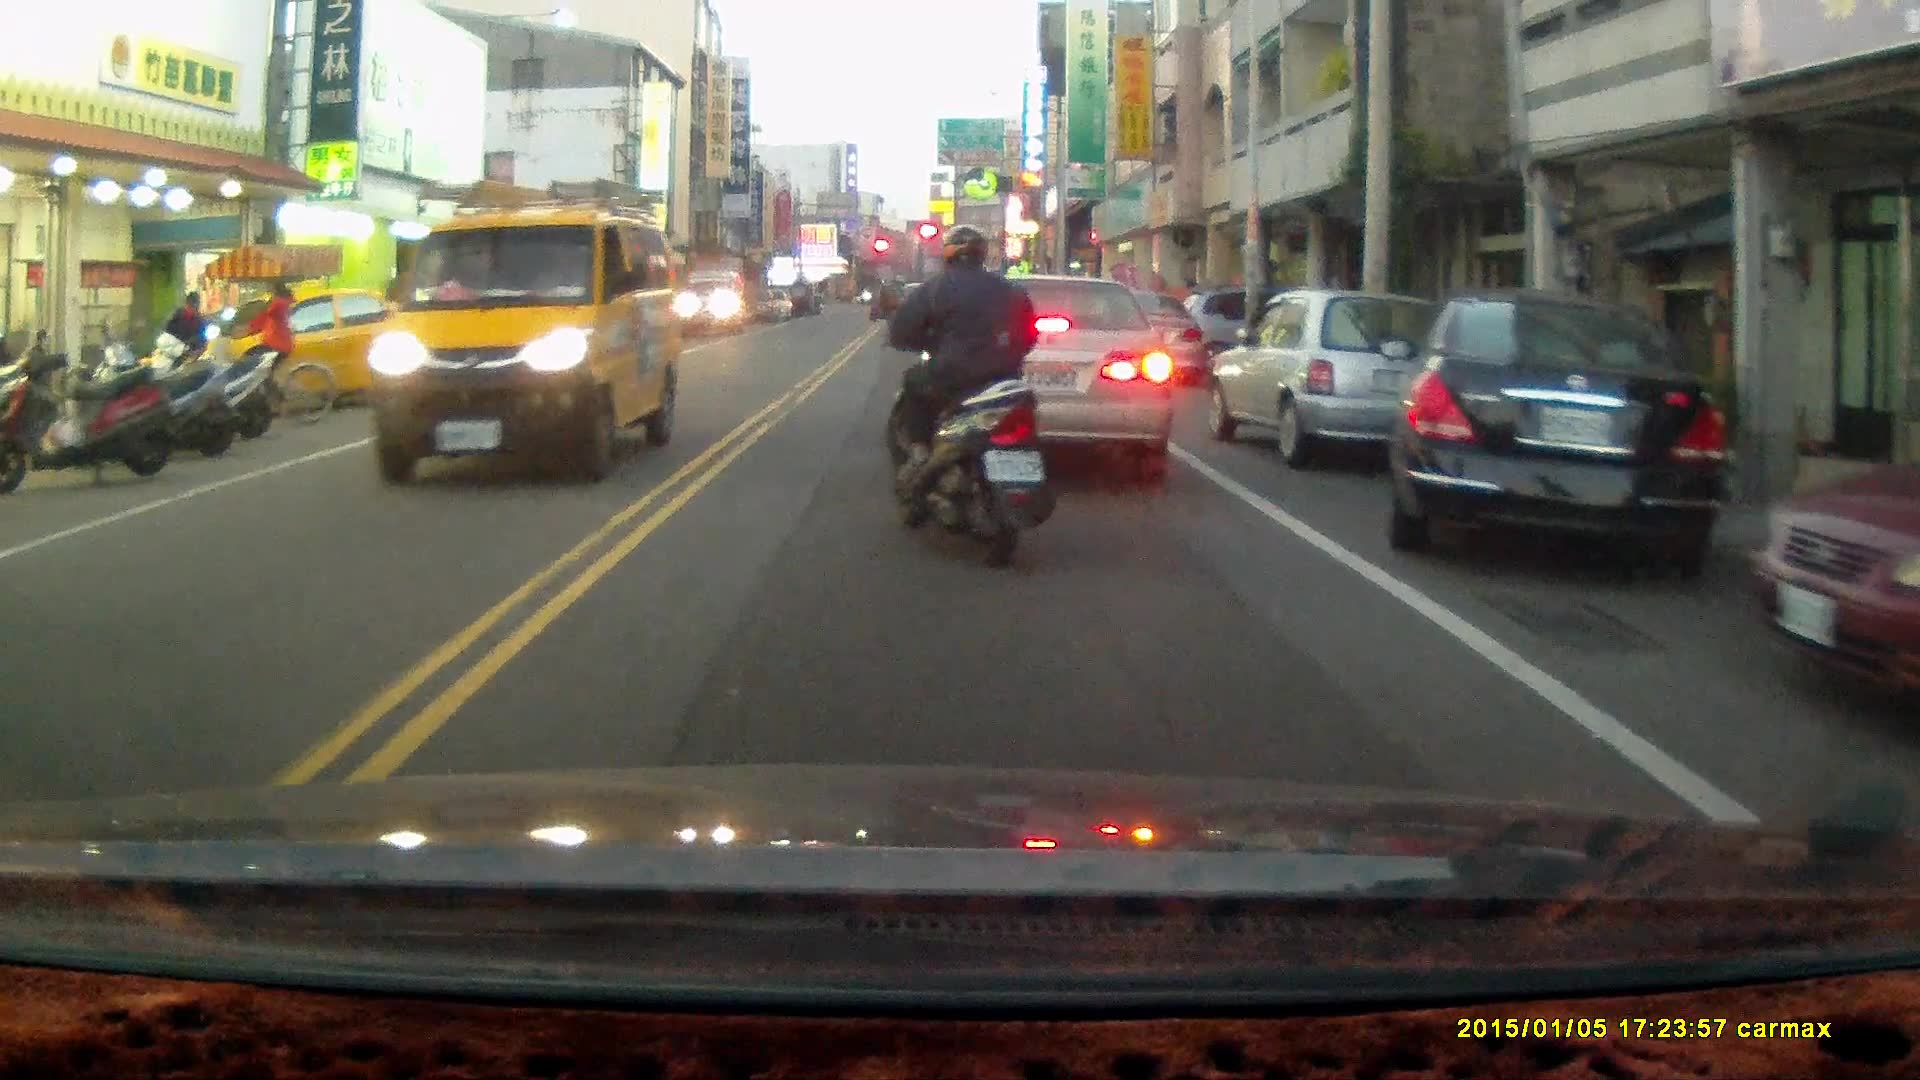pedestrian: (160, 287, 208, 393)
rider: (875, 219, 1061, 569), (216, 274, 332, 431)
vehicle: (1377, 292, 1732, 583), (369, 180, 687, 490), (1747, 397, 1920, 736), (916, 275, 1180, 486), (1211, 289, 1450, 470), (203, 288, 466, 410), (685, 268, 750, 338)
